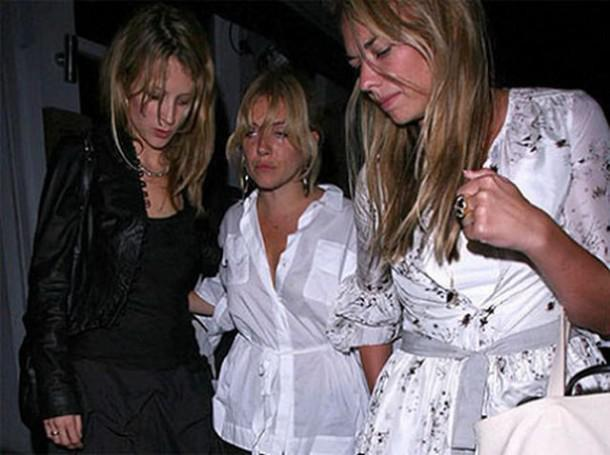Drunk: (347, 17, 418, 122), (128, 53, 189, 140), (236, 94, 295, 179)
